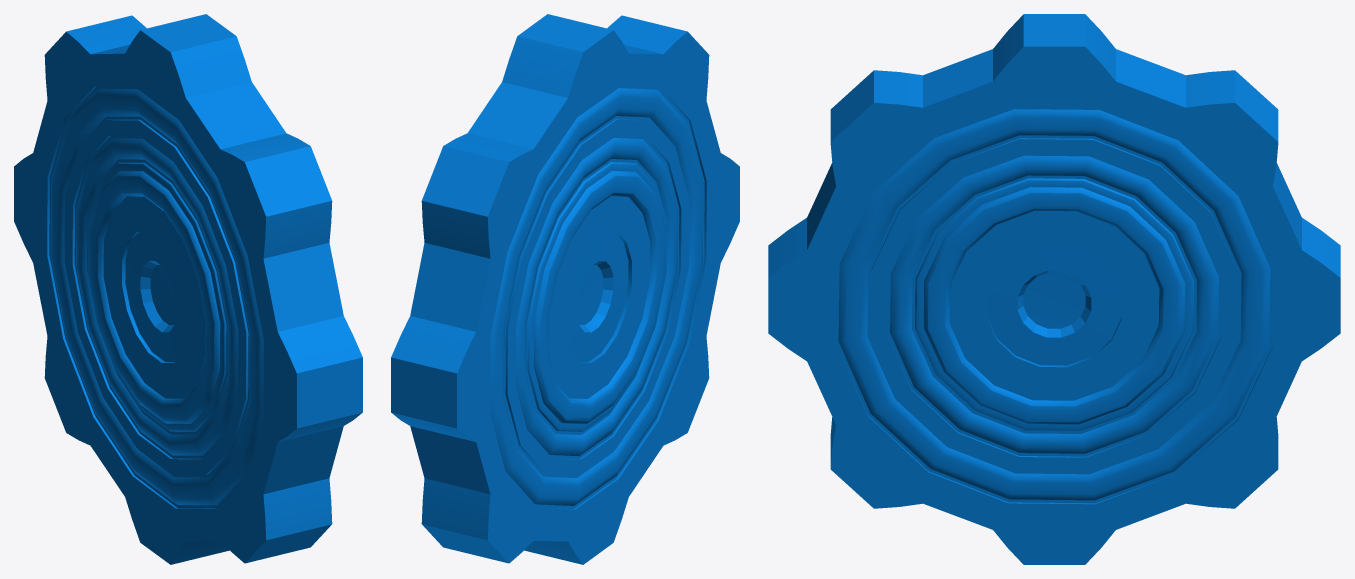
File: Engrenagem.fbx
3 renders of one model, left to right at view 1: azimuth 30°, elevation 25°; view 2: azimuth 150°, elevation 25°; view 3: azimuth 270°, elevation 25°, orthographic.
Parts seen in each view (by area): view 1: Enreangem; view 2: Enreangem; view 3: Enreangem.
Part boxes in pixels (x1=…): Enreangem: x1=14, y1=14, x2=362, y2=564; Enreangem: x1=391, y1=14, x2=739, y2=564; Enreangem: x1=768, y1=14, x2=1340, y2=564.
Size of the model in its own units: 8.52 by 55.69 by 55.69.
